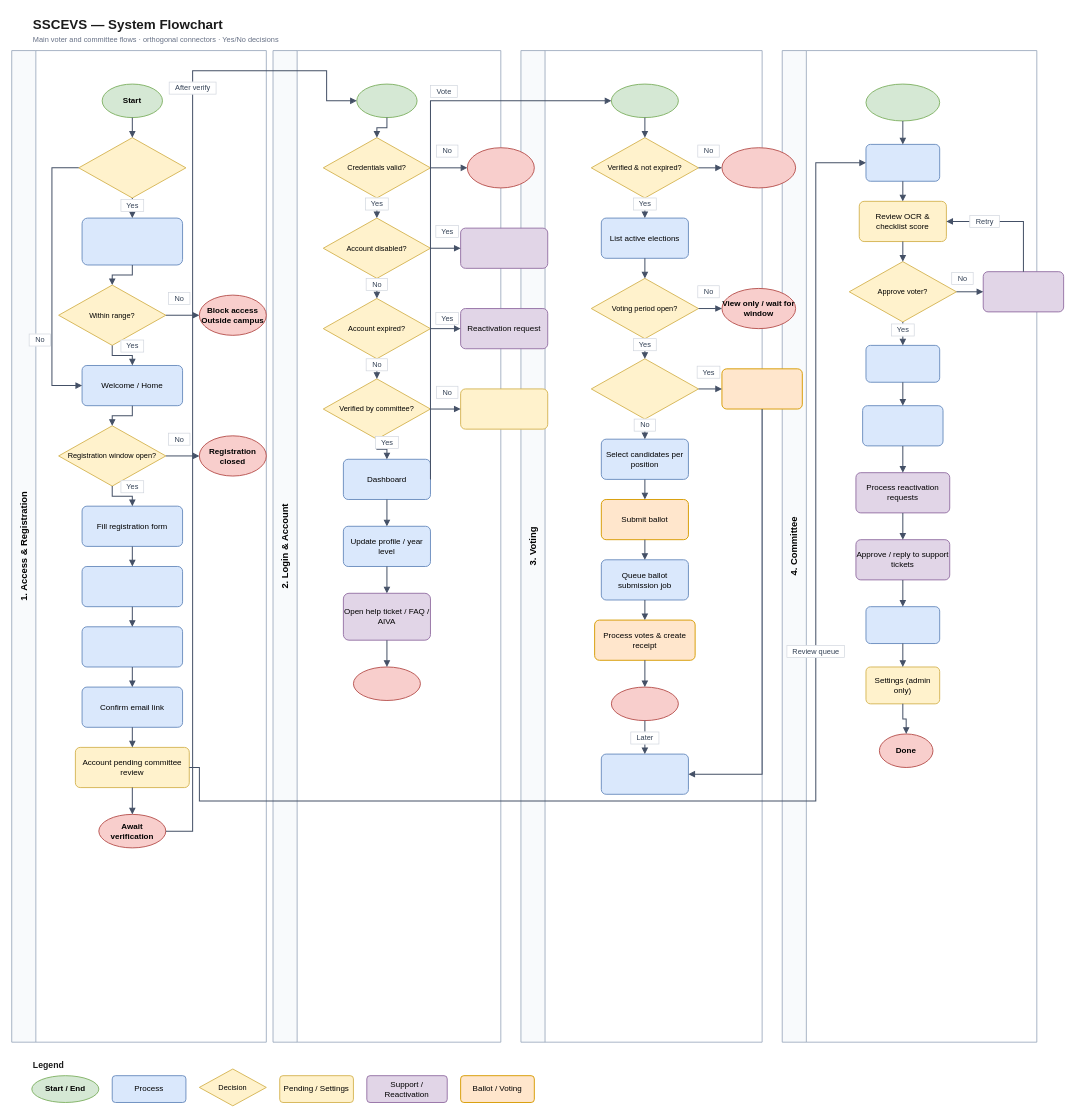
This 1076x1118 diagram has some shape labels left out. The shapes that lost their labels are listed below. From the top down, each one's centre as x and y in pixels, then its label:
At point (386, 100): "Login".
At point (645, 100): "Open Elections".
At point (902, 102): "Committee / Admin login".
At point (132, 167): "Location gate enabled?".
At point (500, 167): "Show error Try again".
At point (758, 167): "Cannot vote See status".
At point (902, 162): "Open Voters list".
At point (132, 241): "Check GPS within campus range".
At point (504, 247): "Year-level appeal form".
At point (1023, 291): "Reject / rerun OCR".
At point (902, 363): "Mark verified (verified_at)".
At point (504, 408): "Registration status page".
At point (644, 388): "Already voted or pending?".
At point (761, 388): "View ballot receipt / PDF".
At point (902, 425): "Manage elections & candidates".
At point (132, 586): "Scan student ID (OCR)".
At point (902, 625): "Monitoring & reports".
At point (132, 646): "Verify OTP (email)".
At point (387, 683): "Continue as voter".
At point (645, 703): "Ballot complete".
At point (645, 773): "View results / live standing".
